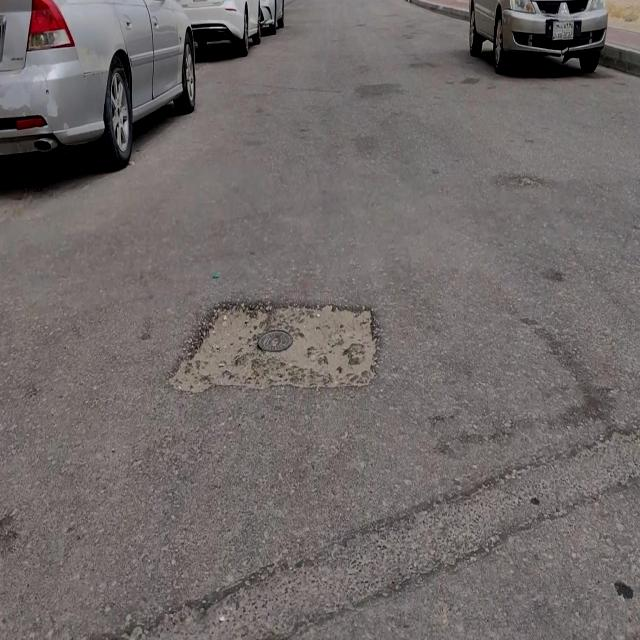Potholes: (168, 299, 376, 396)
